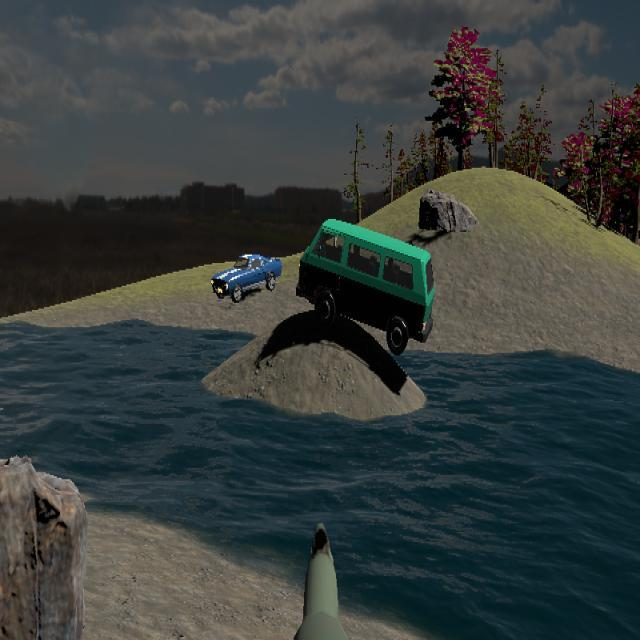car: (296, 219, 435, 353), (210, 252, 283, 304)
